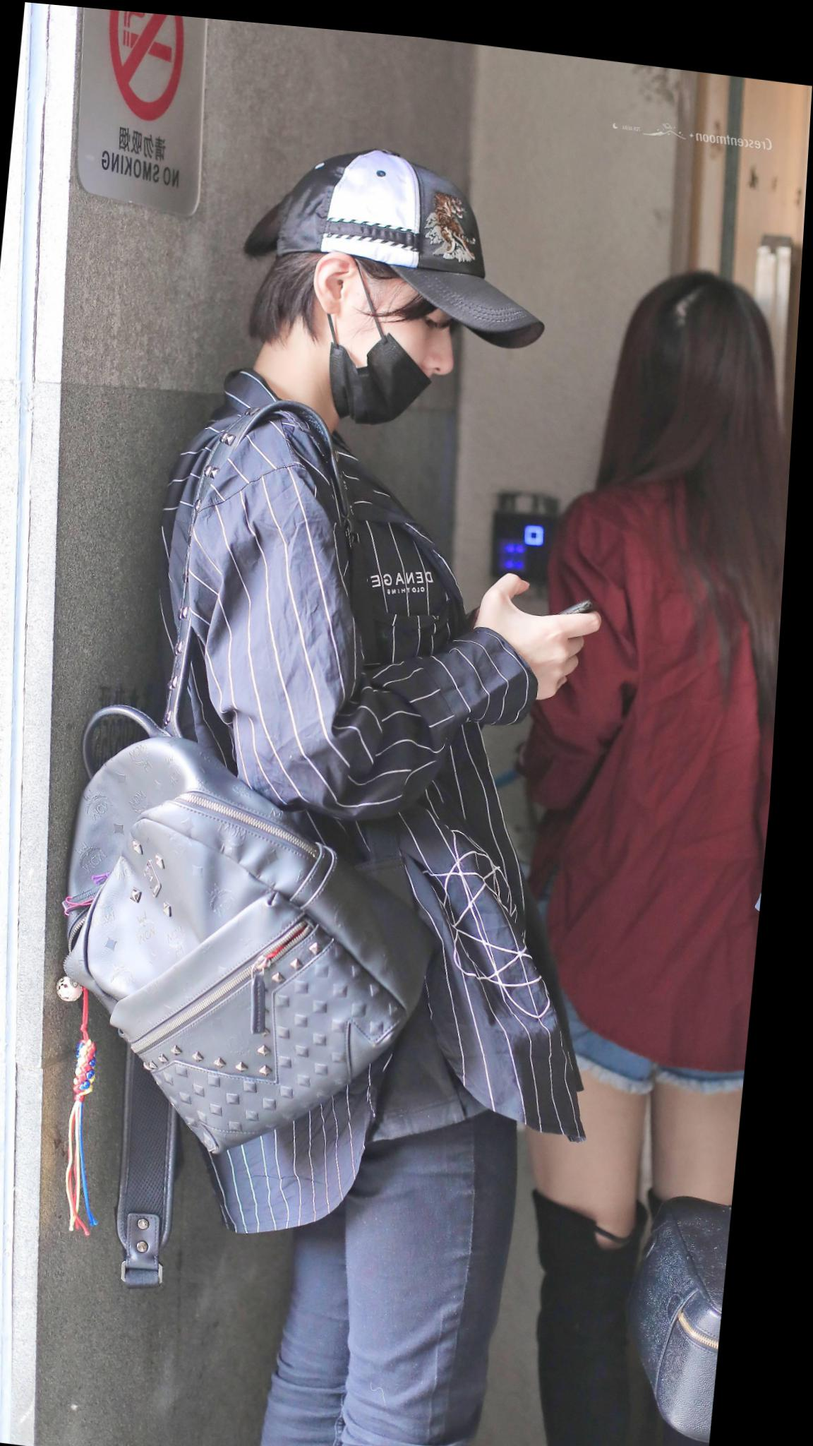WRONG: (344, 261, 466, 427)
